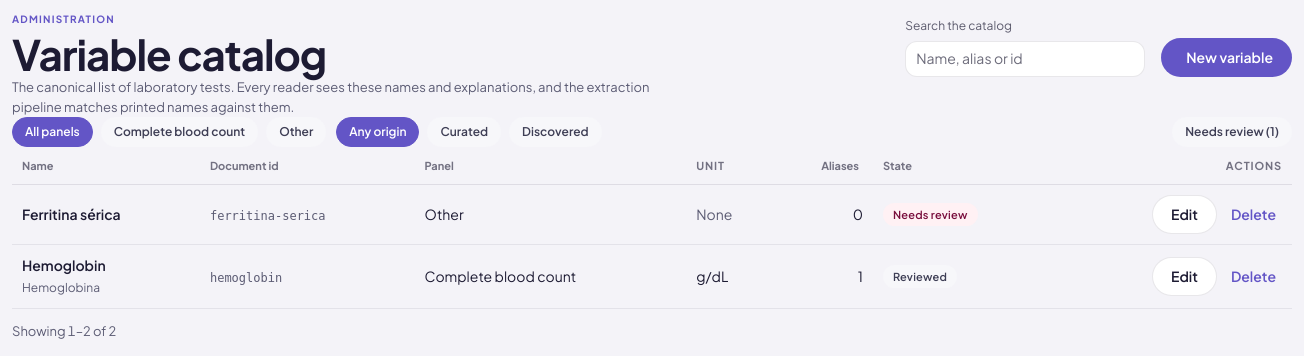
Test: AdminVariables › narrows the list by search, and keeps it in the address bar
This screenshot has width=1304, height=356.
Type "ferritina" into the search field labelled "Search the catalog" at (1025, 58), box x1=905 y1=40 x2=1145 y2=76
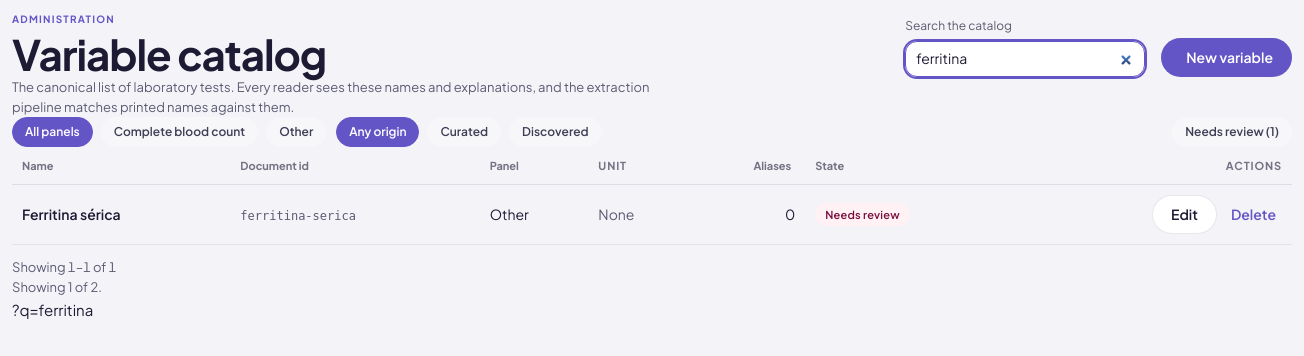
Expected: the text "Ferritina sérica" is shown, x1=22 y1=205 x2=121 y2=223
Expected: the text "Hemoglobin" is gone
Expected: the text with test id "search" shows "q=ferritina", x1=12 y1=300 x2=93 y2=318
